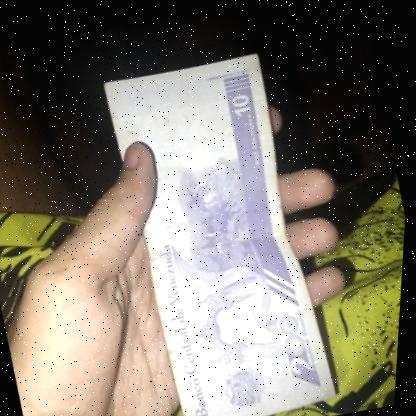ten-back-vef: (89, 37, 357, 416)
